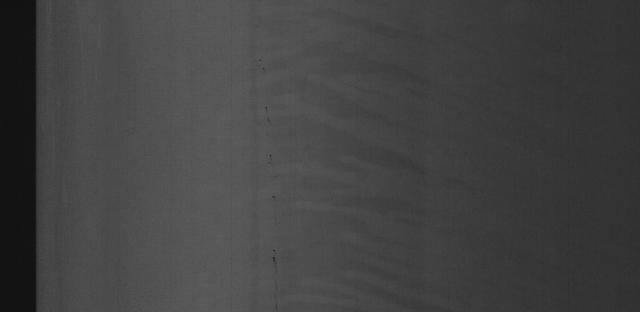inclusion: (257, 57, 272, 137), (268, 249, 283, 306), (265, 151, 279, 207)
water_spot: (285, 20, 404, 301)
